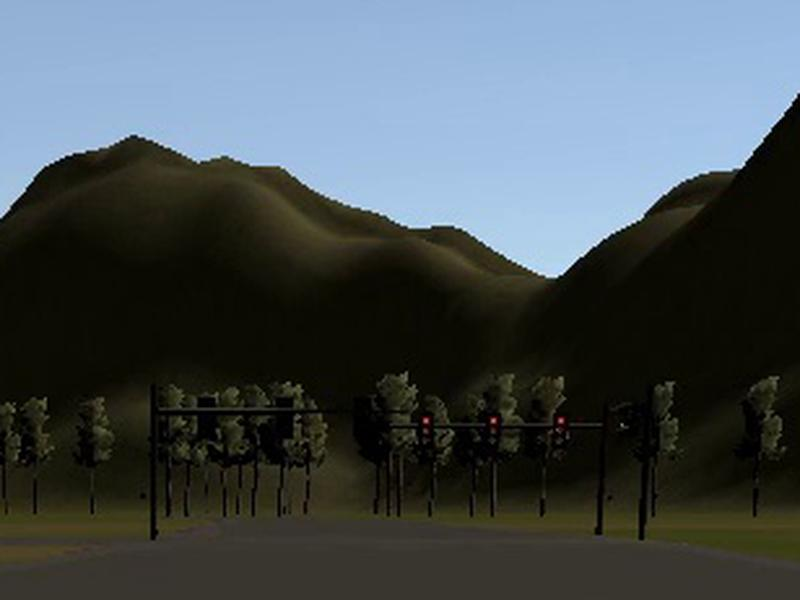Red: (484, 413, 501, 449), (551, 413, 567, 449), (419, 413, 433, 449)
